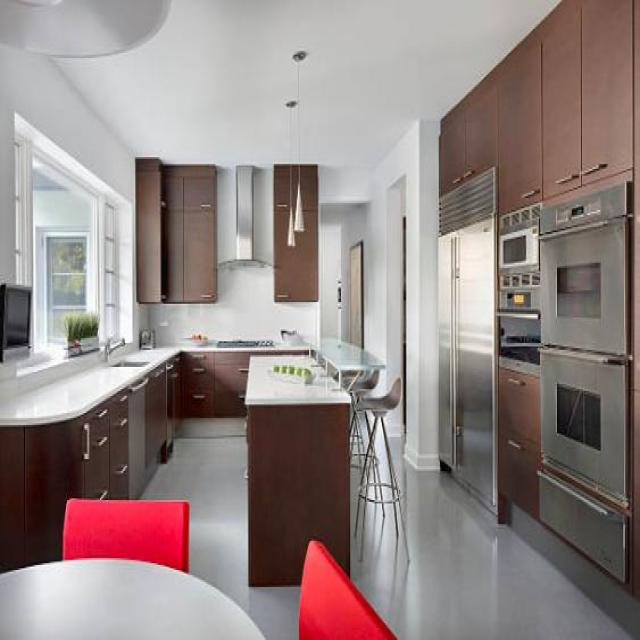dishwasher: (128, 374, 146, 495)
